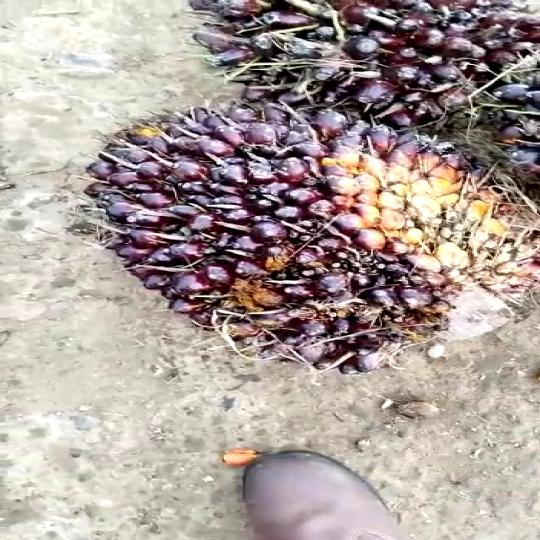kurang masak: (78, 94, 538, 380)
